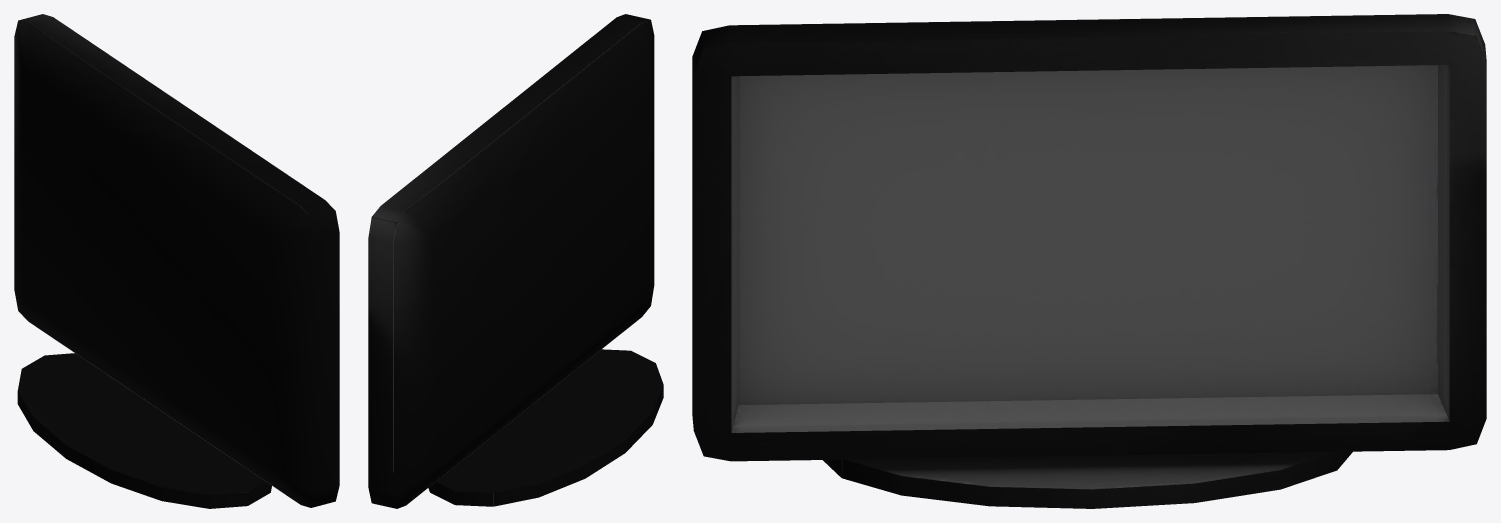
3 views of the same model, side by side, from view 1: azimuth 30°, elevation 25°; view 2: azimuth 150°, elevation 25°; view 3: azimuth 270°, elevation 25° (orthographic). The views are drawn at different scales.
Parts seen in each view (by area): view 1: tv 1; view 2: tv 1; view 3: tv 1.
Part boxes in pixels (<box>): tv 1: <box>14,14,339,508</box>; tv 1: <box>368,14,663,508</box>; tv 1: <box>692,14,1486,508</box>.
Size of the model in its own units: 98.93 by 296 by 183.
Materials: 1 (1 with a texture image).
